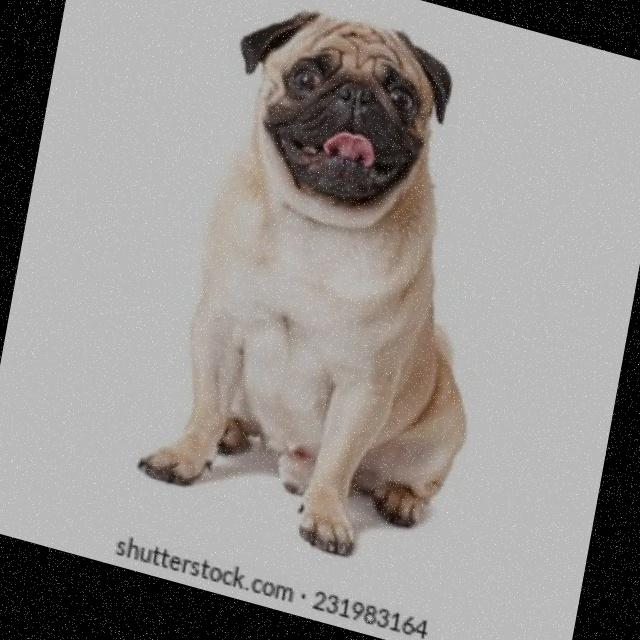dog: (113, 0, 546, 595)
